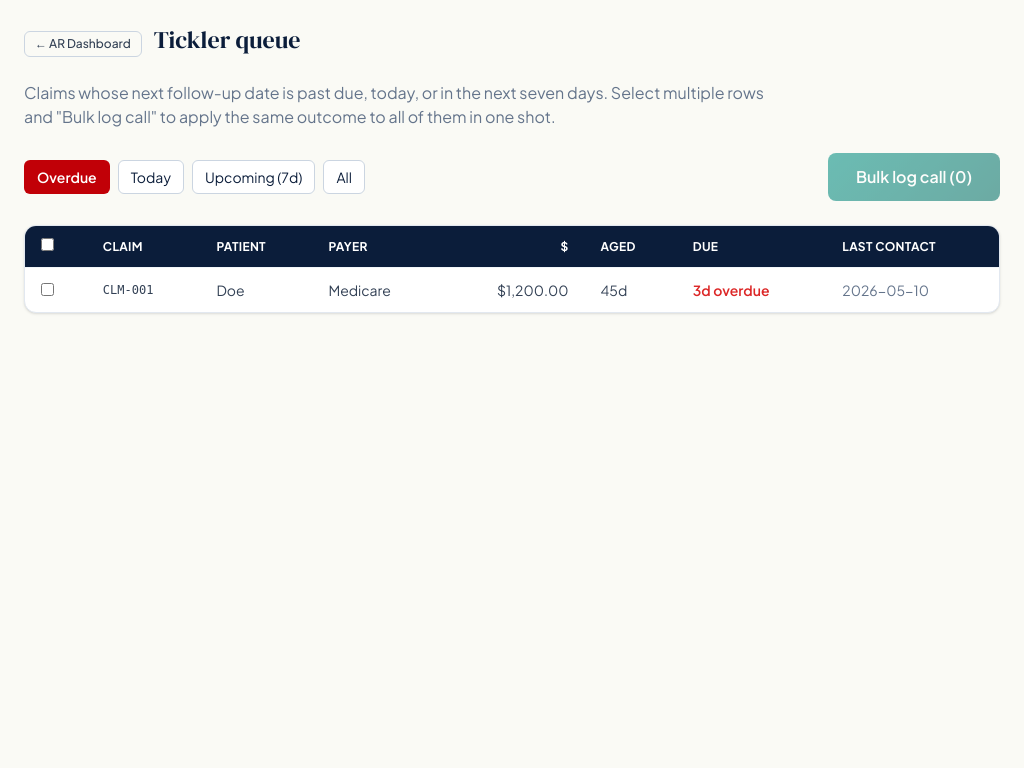
Test: ArTicklerPage › permission gating › enables the modal Apply button when the user has billing:ar-followup
Expected: the text "CLM-001" is shown, [87,268,200,312]
Click the checkbox named "Select claim CLM-001": (48, 290) [41,283,54,296]
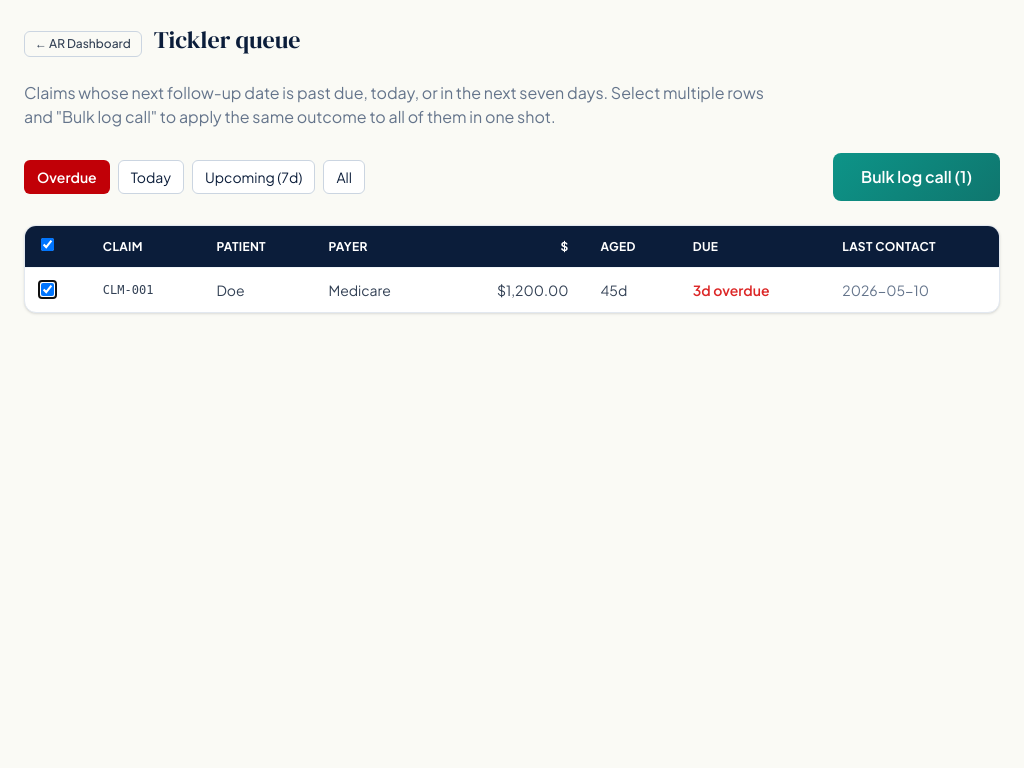
Click the button "Bulk log call (1)": (917, 177) [833,153,1000,201]
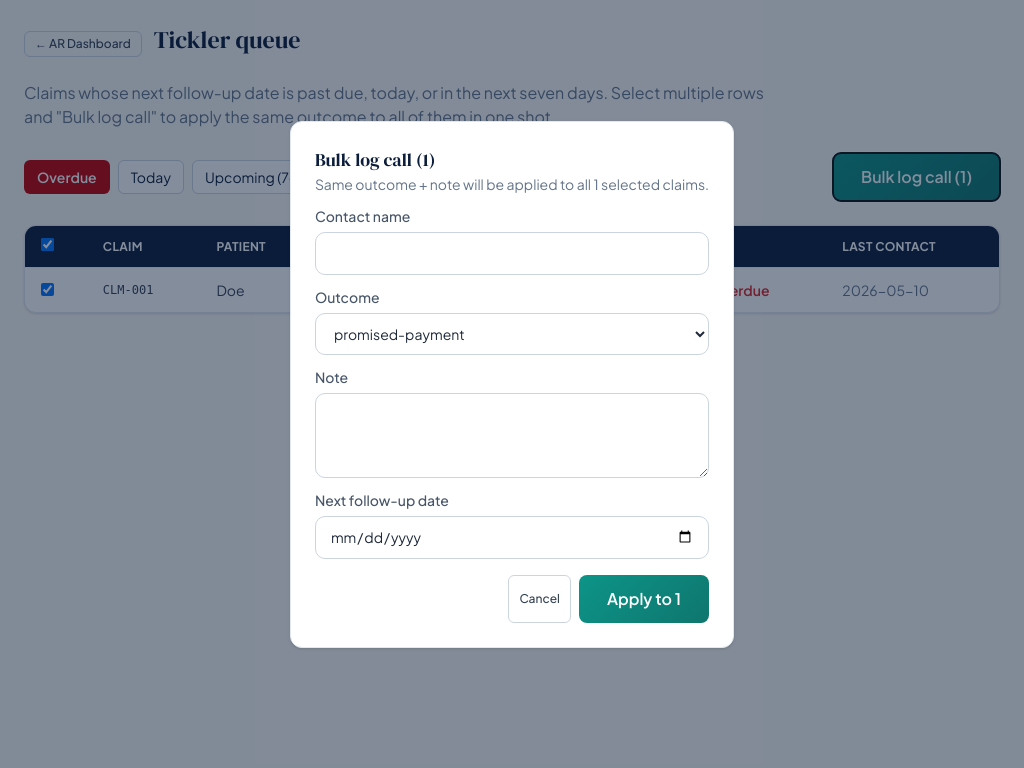
Expected: the button "Apply to 1" is enabled, [579,574,709,622]
